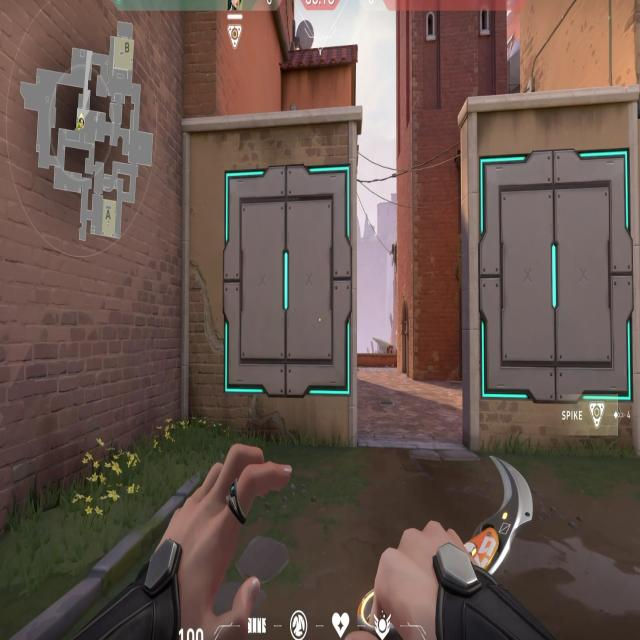Mid_Wall: (463, 96, 640, 452), (181, 106, 360, 444)
